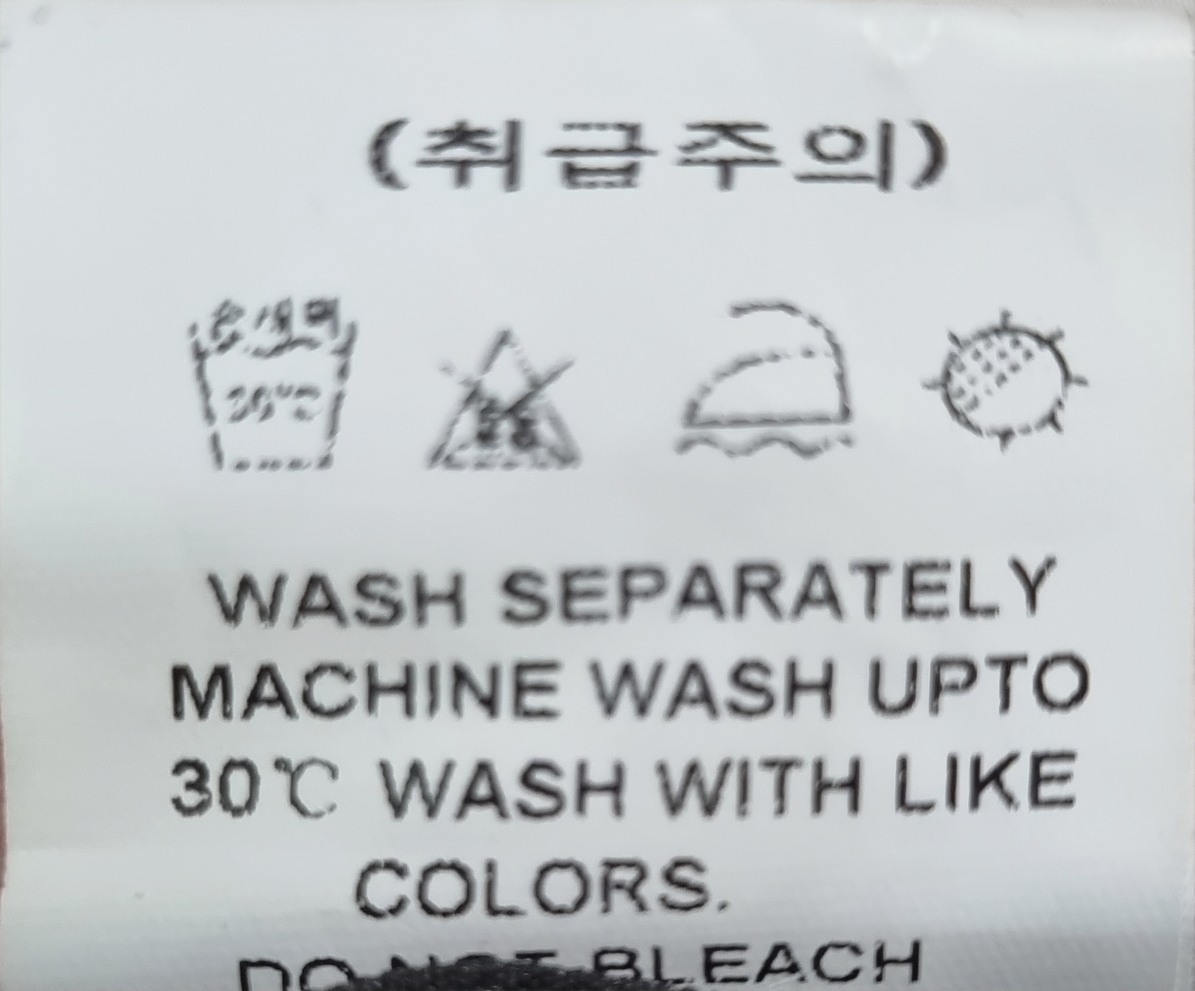KR_hand_wash_30_neutral: (177, 276, 369, 488)
KR_no_chlorine_bleach: (415, 298, 592, 491)
